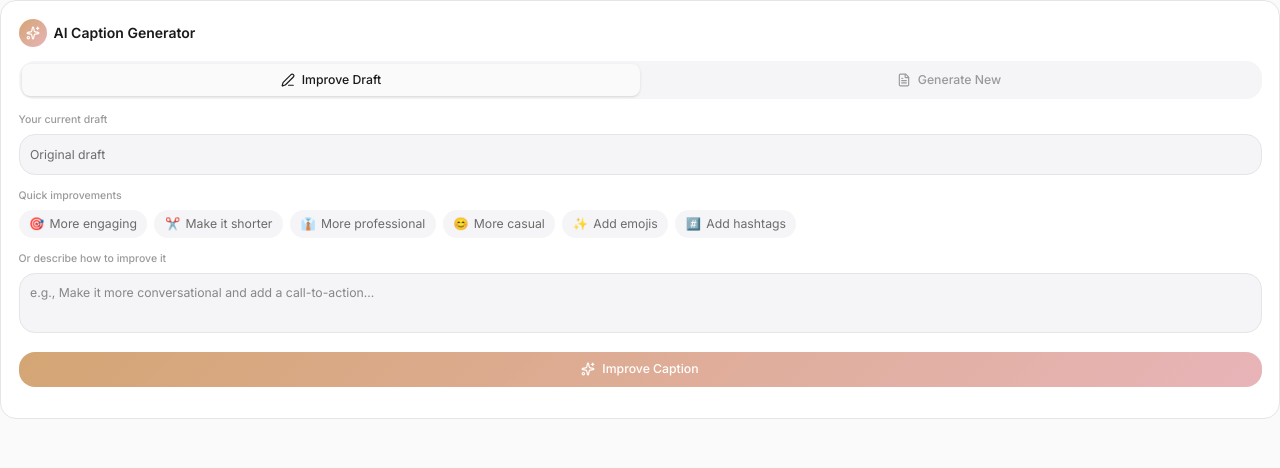
Scenario: AICaptionGenerator › recovers from network or invalid response failures
This screenshot has width=1280, height=468.
Click the button "Improve Caption": (640, 369) [18, 352, 1262, 386]
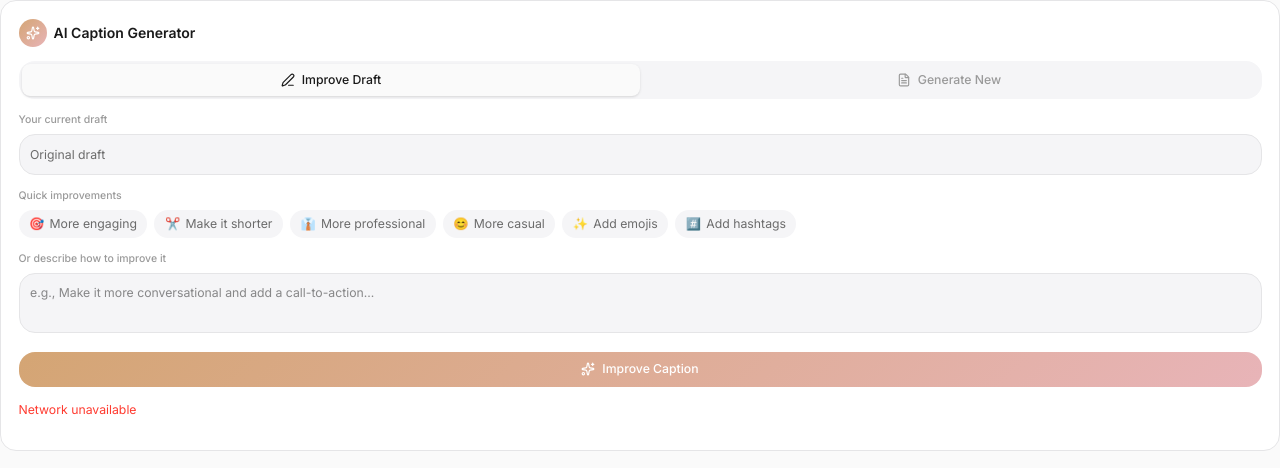
expect the message "Network unavailable" is shown: met, box [18, 402, 136, 416]
